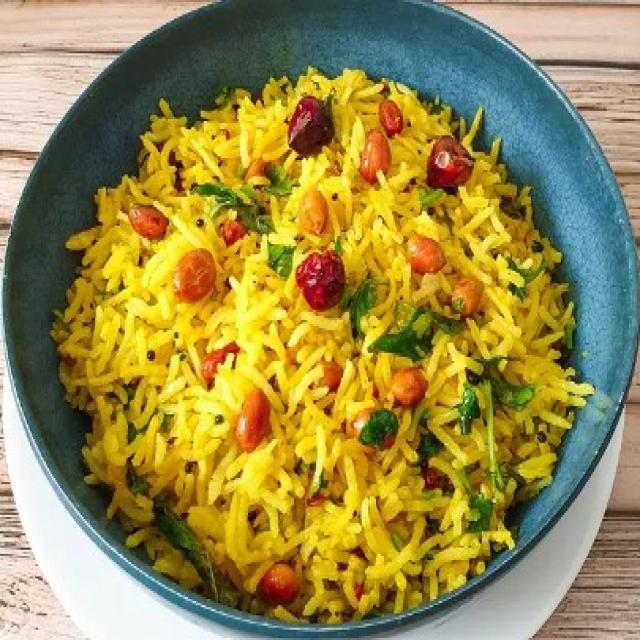lemon satham: (43, 62, 593, 640)
